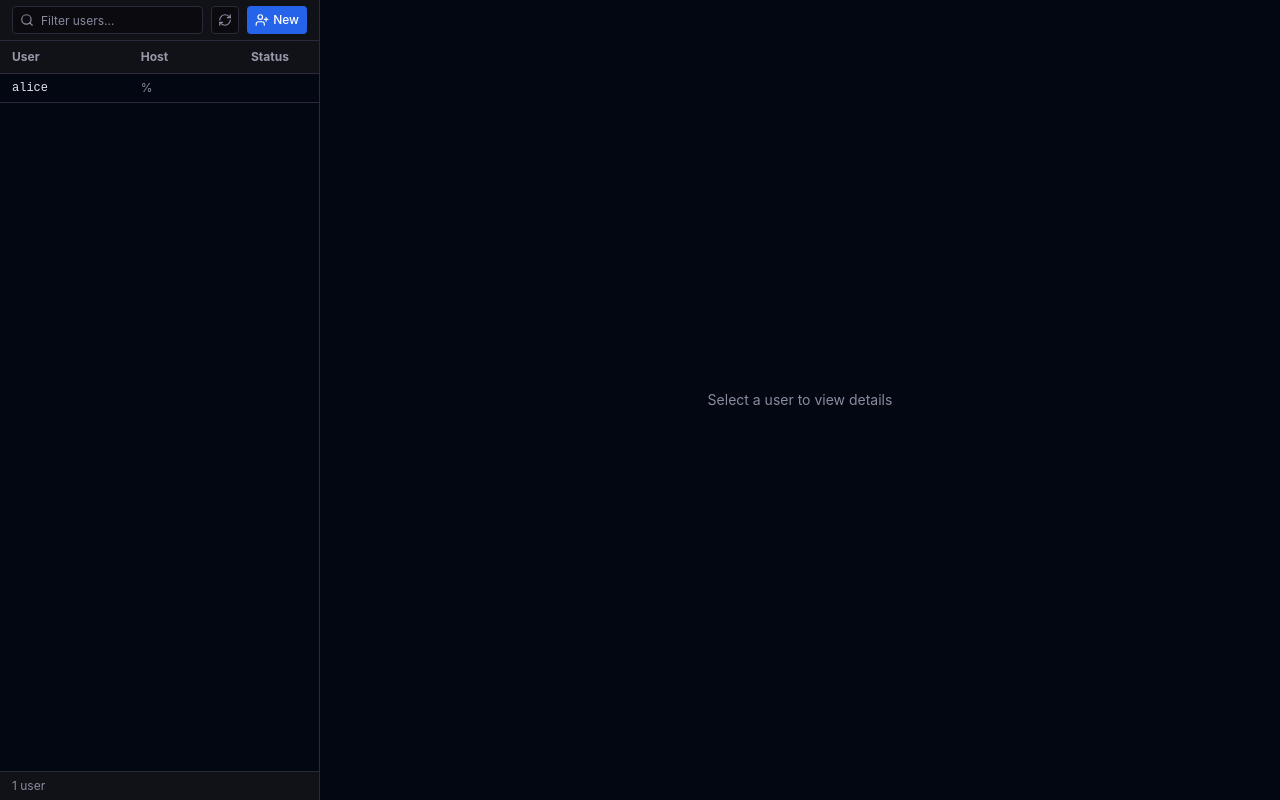
Scenario: partial privilege failure (#439) › says what applied, what failed and what was skipped
Click the text "alice".
click(30, 88)  # box [0,74,129,102]
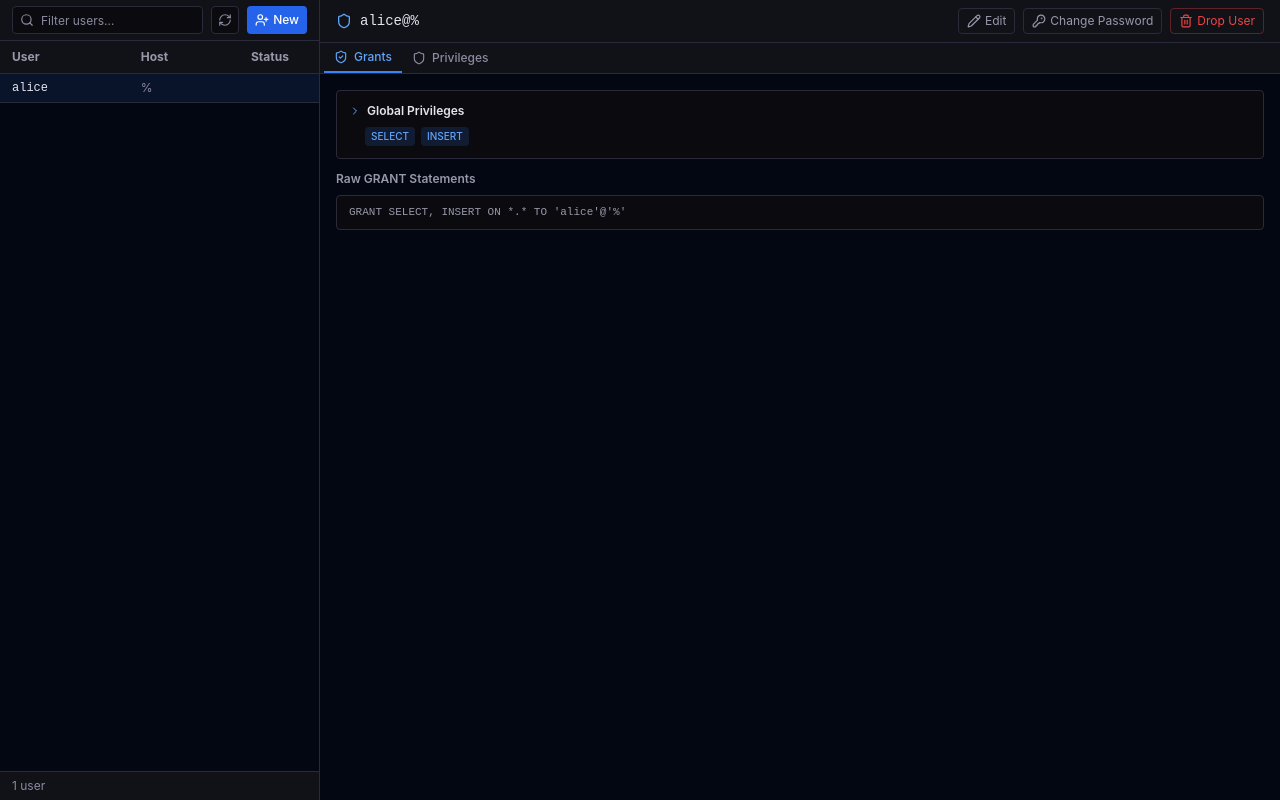
Click the button "Privileges".
click(450, 58)  # box [402,43,498,73]
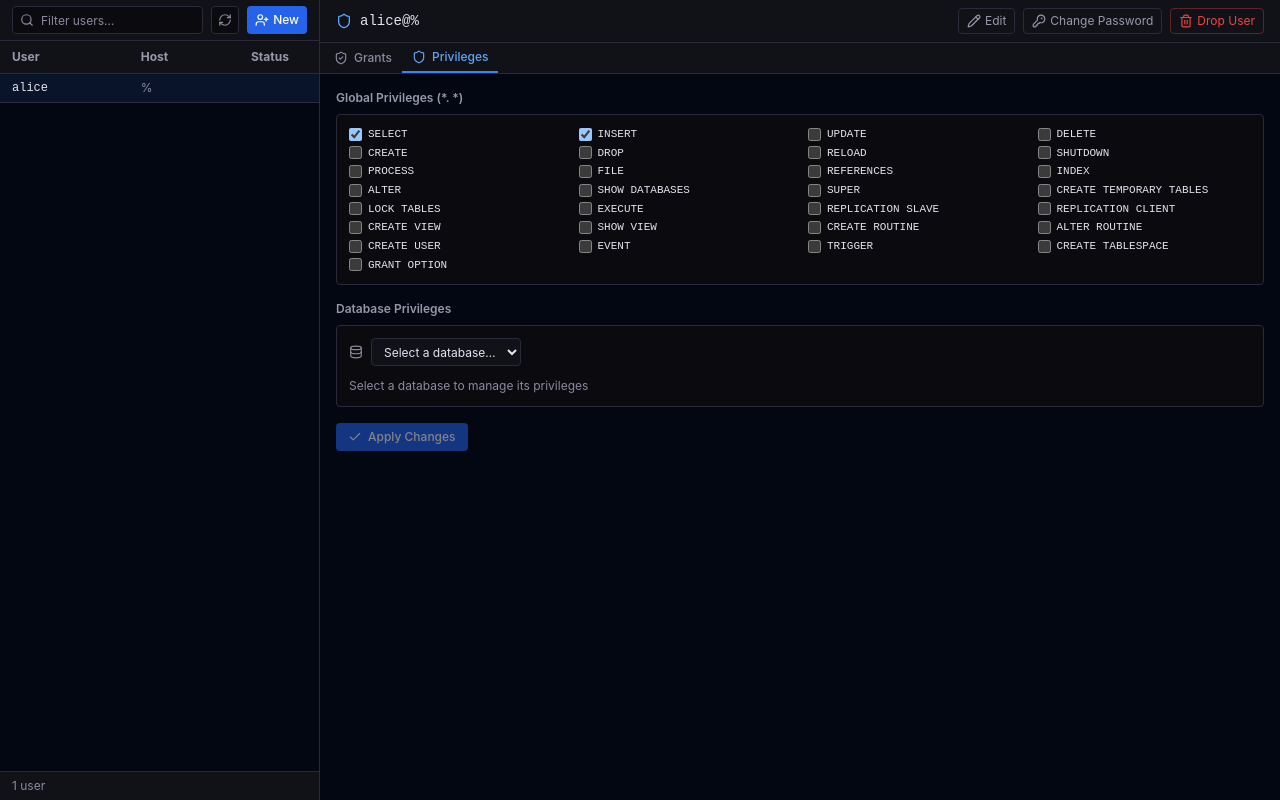
// Two global changes, so there is a statement either side of the failure.
Click the checkbox labelled "SELECT".
click(356, 134)  # box [349,128,362,141]
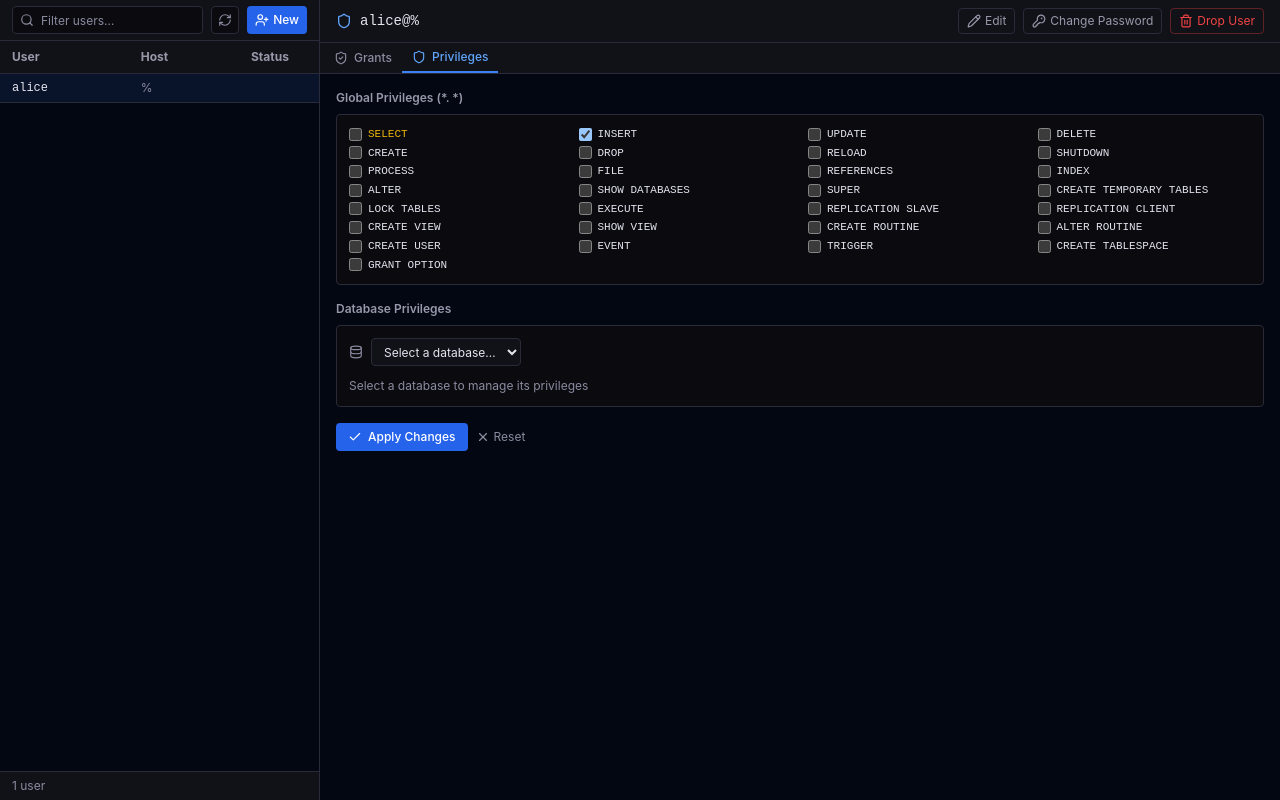
Click the checkbox labelled "UPDATE".
click(814, 134)  # box [808,128,821,141]
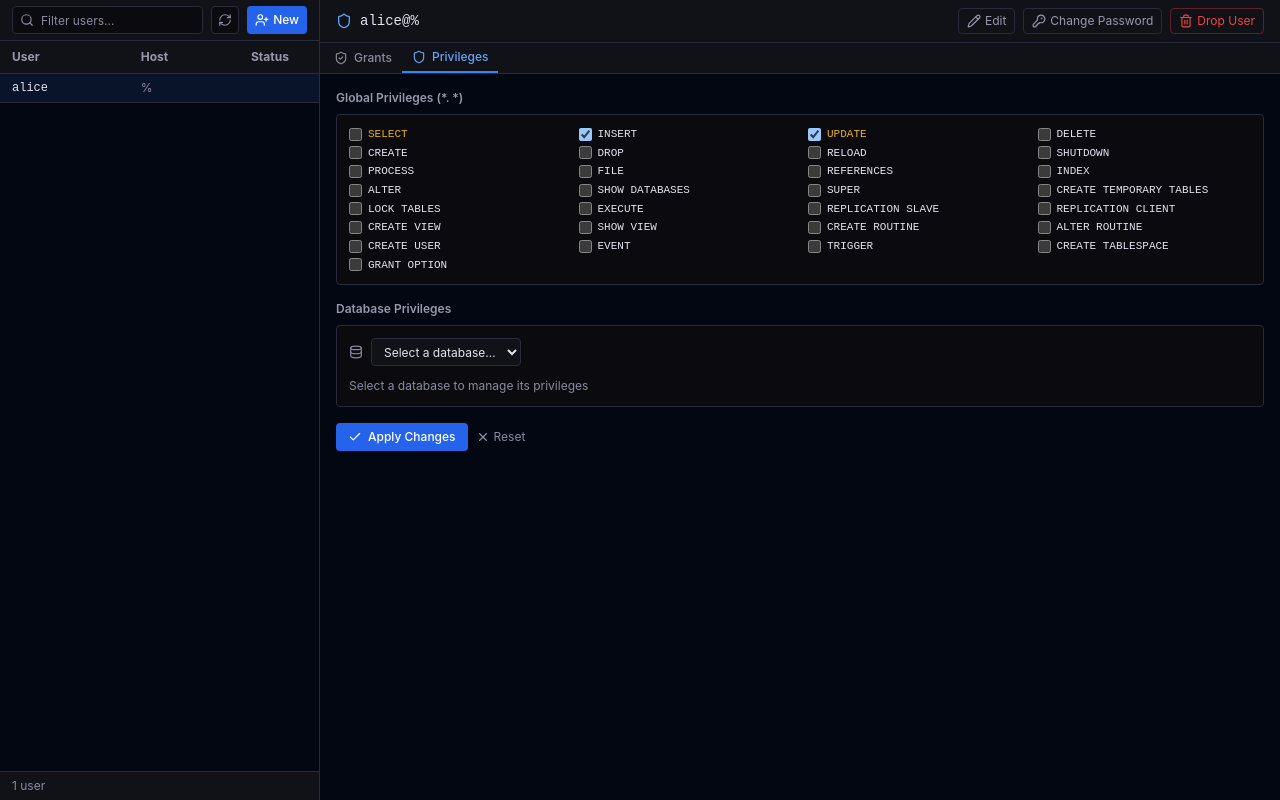
Click the button "Apply Changes".
click(402, 437)  # box [336,423,468,451]
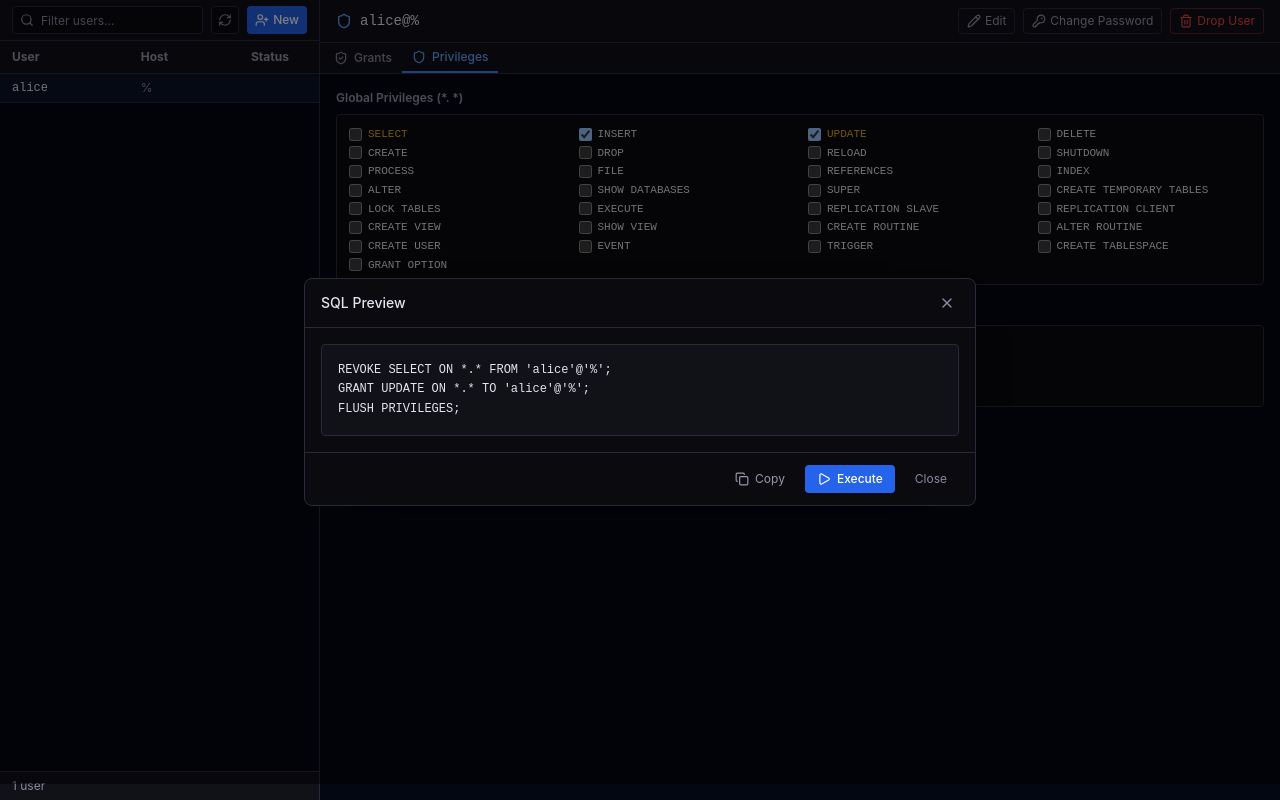
Click the button "Execute".
click(850, 479)  # box [805,465,895,493]
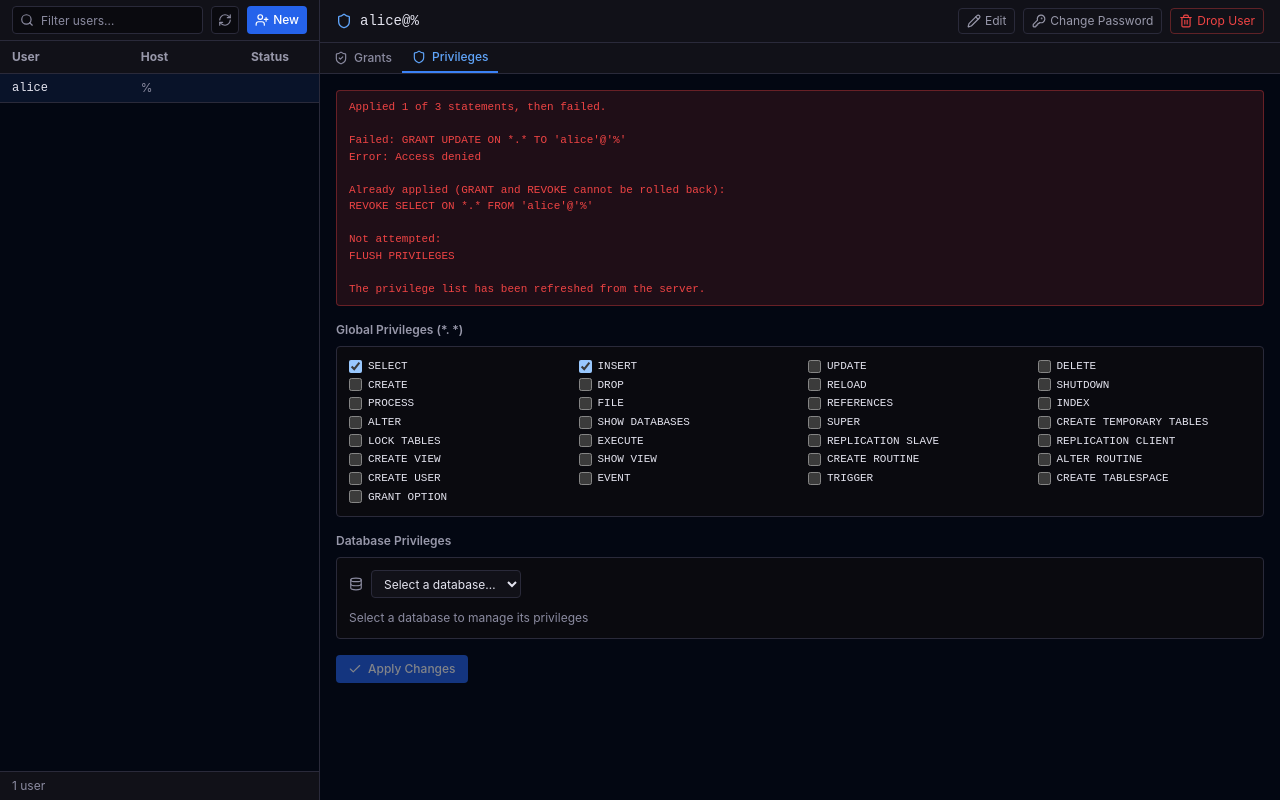
Expected: the text "Applied 1 of" shows "Failed:", [349,101,725,294]
Expected: the text "Applied 1 of" shows "cannot be rolled back", [349,101,725,294]
Expected: the text "Applied 1 of" shows "refreshed from the server", [349,101,725,294]
